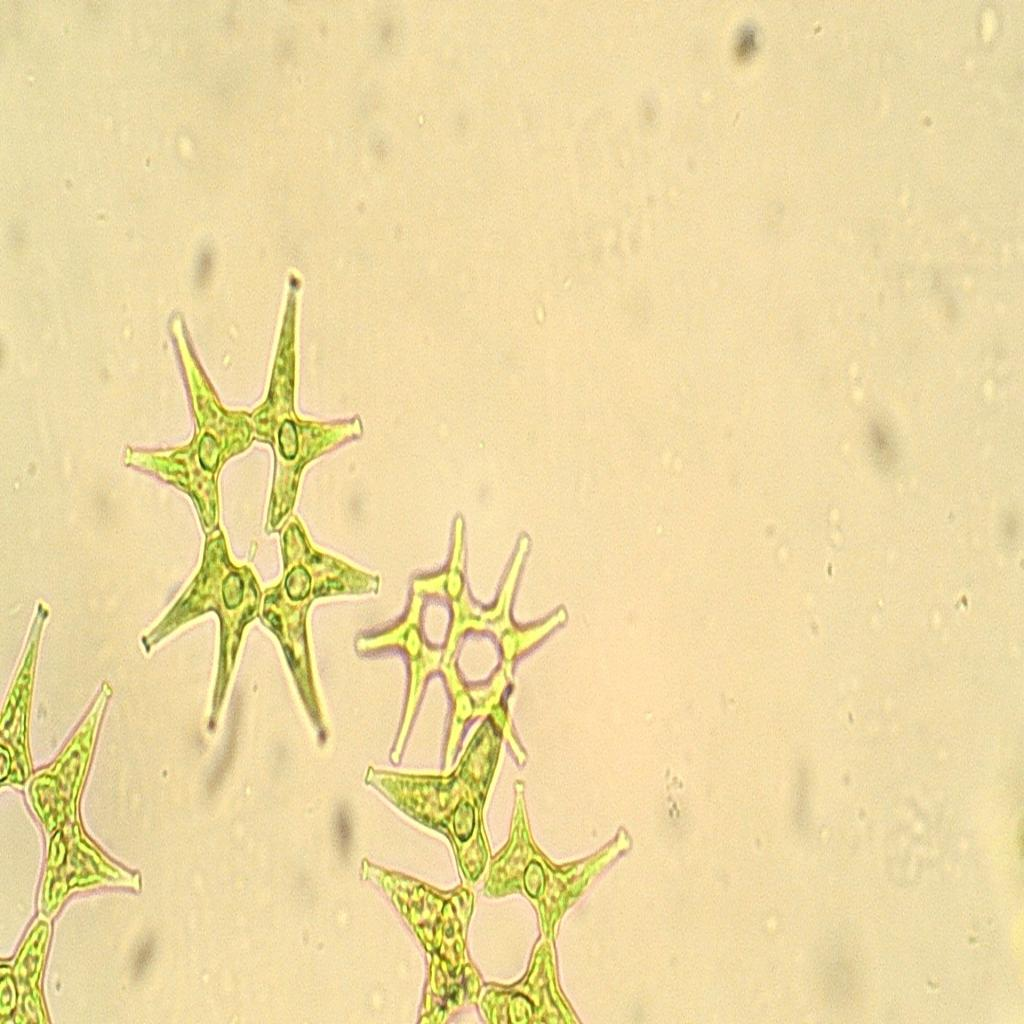Pediastrum_CF: (116, 269, 384, 775)
